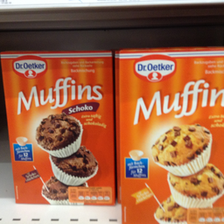cake: (116, 49, 224, 222), (1, 50, 116, 205)
